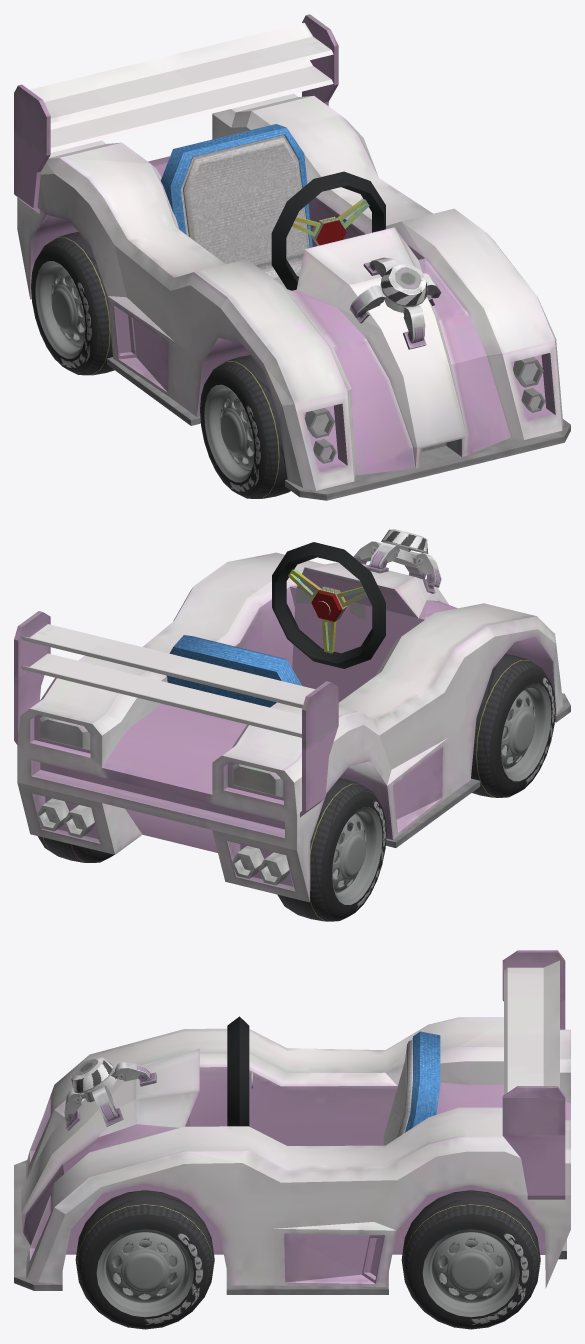
The model's file is 08-Lemans-Stock-White.glb.
3 views of the same model, one above another, from view 1: azimuth 30°, elevation 25°; view 2: azimuth 150°, elevation 25°; view 3: azimuth 270°, elevation 25° (orthographic). The views are drawn at different scales.
Parts seen in each view (by area): view 1: Lemans.001, Regular, Tire (×2), Aero (×2), Torus, WEAPON MOUNT-Default_OBJ_3, INT_WHEEL_005, arm1.1-Default_OBJ_3, arm1.2-Default_OBJ_3; view 2: Lemans.001, Tire (×3), Aero (×2), Torus, Regular, Engine_011, INT_WHEEL_005, WEAPON MOUNT-Default_OBJ_3, arm1.1-Default_OBJ_3, arm1.3-Default_OBJ_3; view 3: Lemans.001, Tire (×2), Aero (×2), Regular, Torus, WEAPON MOUNT-Default_OBJ_3, arm1.1-Default_OBJ_3.001, arm1.3-Default_OBJ_3.
Part boxes in pixels (box(x1,y1,x2,y2)): Lemans.001: box(14, 14, 570, 500); Regular: box(160, 124, 312, 290); Tire (×2): box(31, 232, 290, 498); Aero (×2): box(35, 261, 254, 482); Torus: box(271, 171, 385, 290); WEAPON MOUNT-Default_OBJ_3: box(380, 264, 427, 312); INT_WHEEL_005: box(292, 198, 369, 245); arm1.1-Default_OBJ_3: box(350, 285, 385, 317); arm1.2-Default_OBJ_3: box(403, 305, 425, 343); Lemans.001: box(14, 552, 570, 902); Tire (×3): box(37, 654, 555, 921); Aero (×2): box(332, 683, 551, 904); Torus: box(272, 542, 385, 668); Regular: box(166, 635, 301, 707); Engine_011: box(36, 798, 289, 885); INT_WHEEL_005: box(288, 569, 367, 653); WEAPON MOUNT-Default_OBJ_3: box(381, 529, 428, 567); arm1.1-Default_OBJ_3: box(415, 553, 441, 587); arm1.3-Default_OBJ_3: box(369, 542, 399, 568); Lemans.001: box(14, 950, 570, 1294); Tire (×2): box(75, 1190, 540, 1329); Aero (×2): box(96, 1229, 519, 1317); Regular: box(383, 1031, 440, 1145); Torus: box(227, 1016, 249, 1126); WEAPON MOUNT-Default_OBJ_3: box(71, 1057, 116, 1102); arm1.1-Default_OBJ_3.001: box(92, 1085, 117, 1122); arm1.3-Default_OBJ_3: box(115, 1062, 150, 1081).
Size of the model in its own units: 4.82 by 3.98 by 8.12.
Materials: 8 (8 with a texture image).
